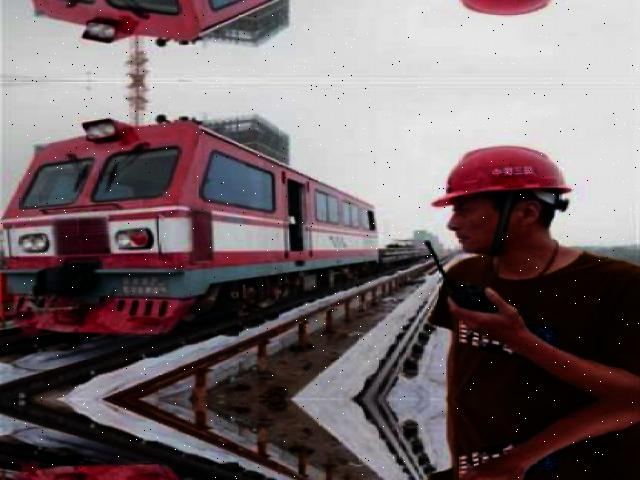Helmet: (427, 142, 579, 217)
